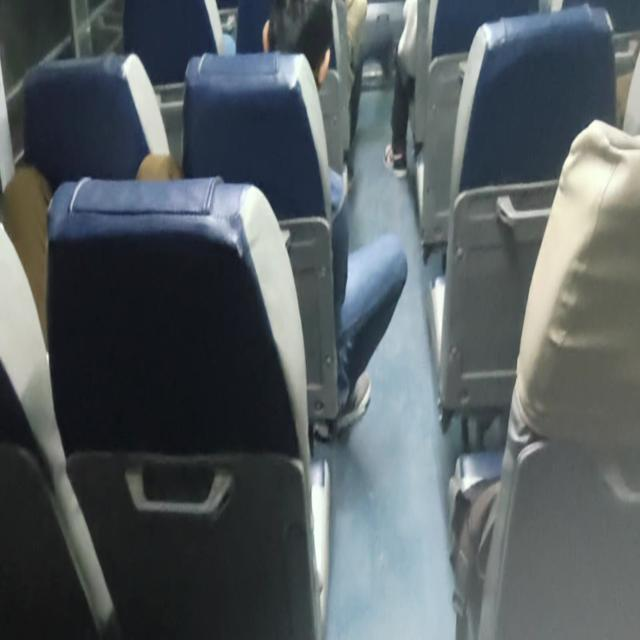person: (254, 0, 335, 99)
